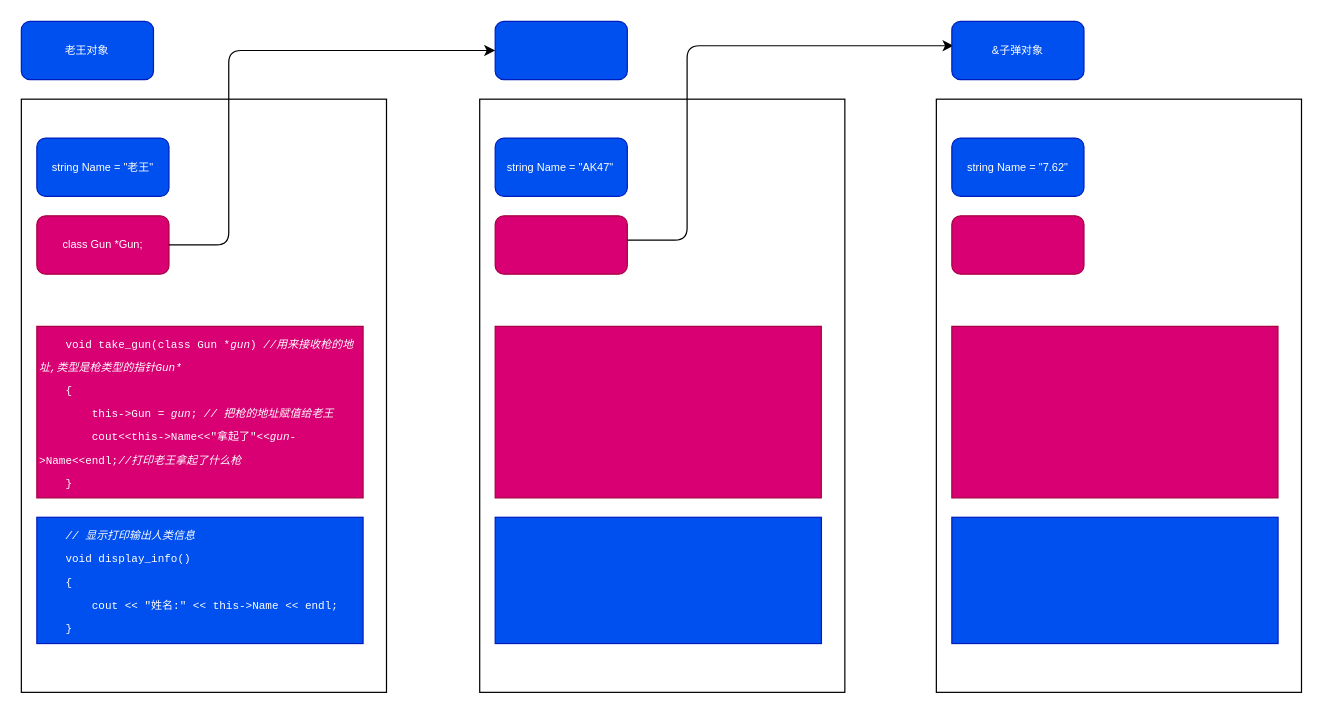
Some shapes in this 1324 by 714 pixel diagram are drawn without their labels. The box of each missing label's shape, as (x1, y1, x2, y2) in pixels:
&枪对象: (494, 20, 627, 80)
class Bullet *bullet;: (494, 215, 627, 274)
